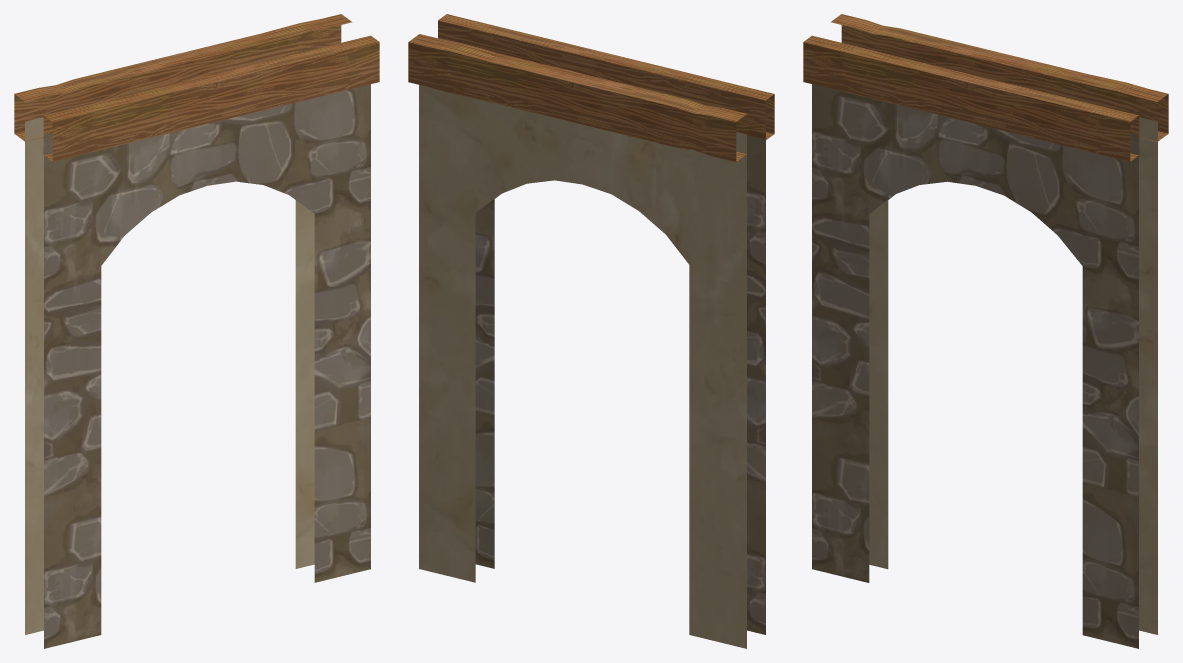
File: wall_brick_door.glb
3 renders of one model, left to right at view 1: azimuth 30°, elevation 25°; view 2: azimuth 150°, elevation 25°; view 3: azimuth 330°, elevation 25°, orthographic.
Size of the model in its own units: 2 by 3.12 by 0.4064.
Materials: 3 (3 with a texture image).
